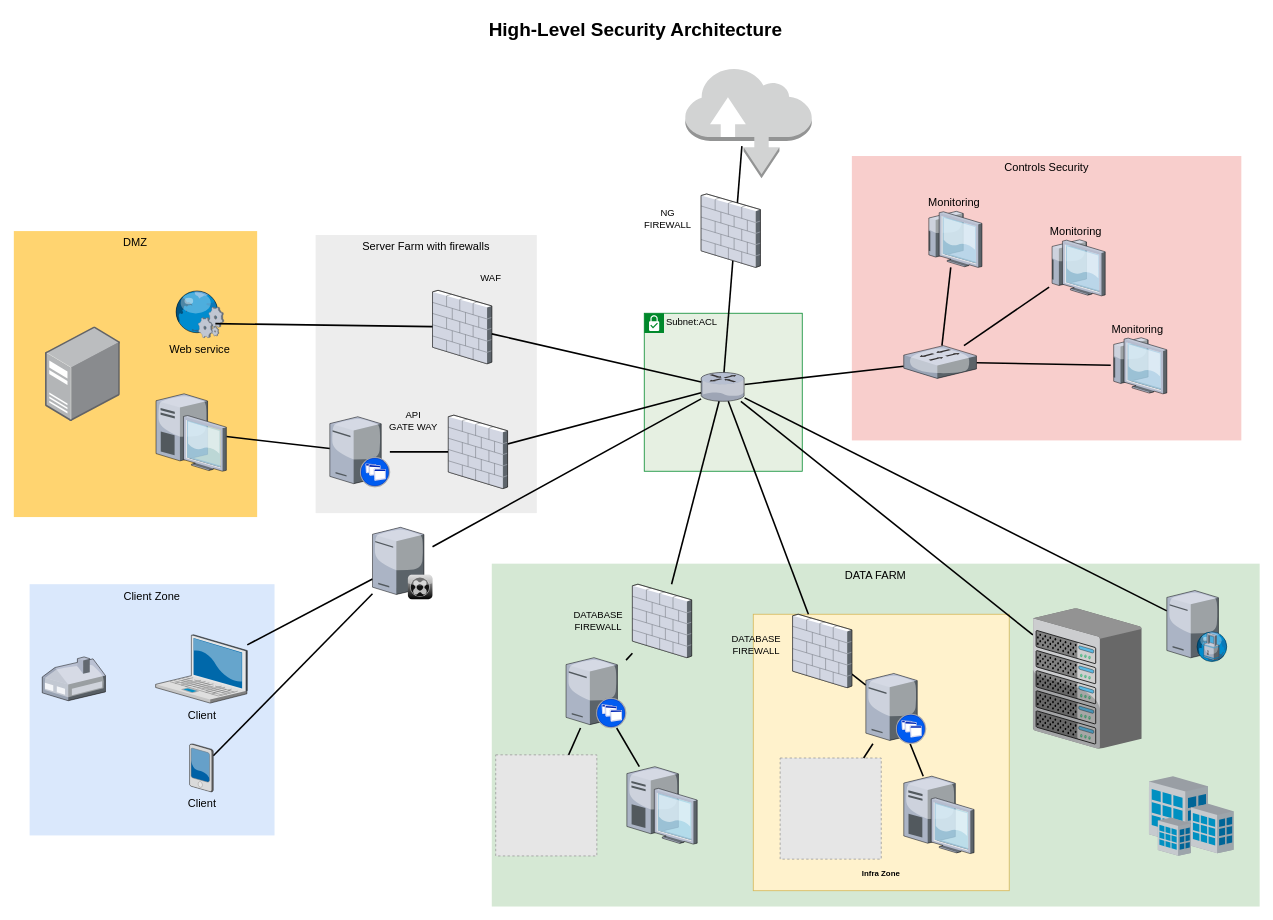
Image size: 1273x920. Some labels were removed from this diagram. Grey dashed boxes stand in for pictures. The shapes that lost their labels are listed below. From the top down, each one's centre as x and y in pixels, then its label:
At point 82,373: "Server".
At point 191,432: "API".
At point 1196,625: "Secure Server".
At point 1087,678: "DNS".
At point 661,805: "Payment".
At point 938,814: "DHCP FILE".
